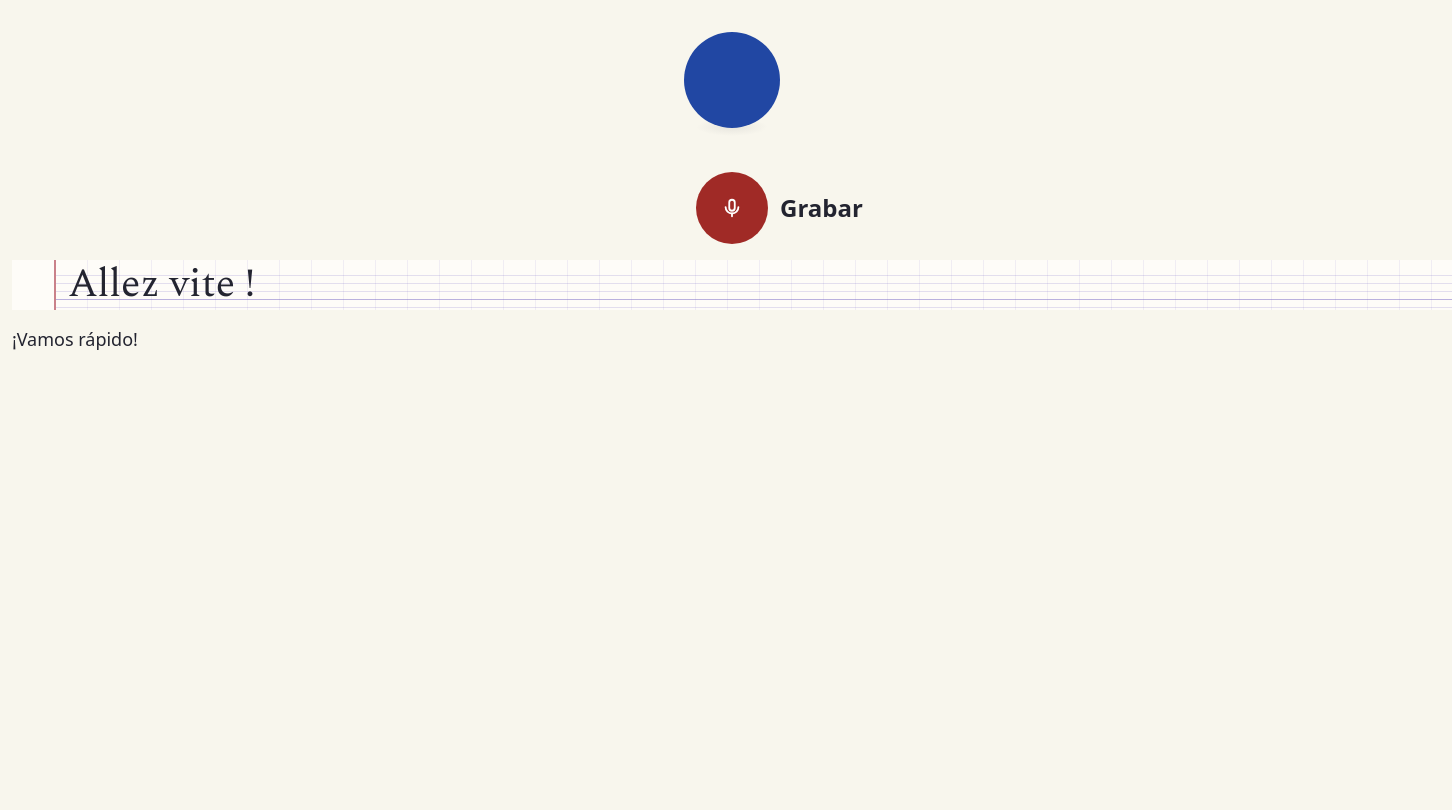
Test: score summary muestra anillo SVG y WordList reproduce palabra con voz francesa del navegador
This screenshot has width=1452, height=810.
Later steps or results of the test are not shown.
Click the button "Grabar" at (732, 208), box [696,172,768,244]
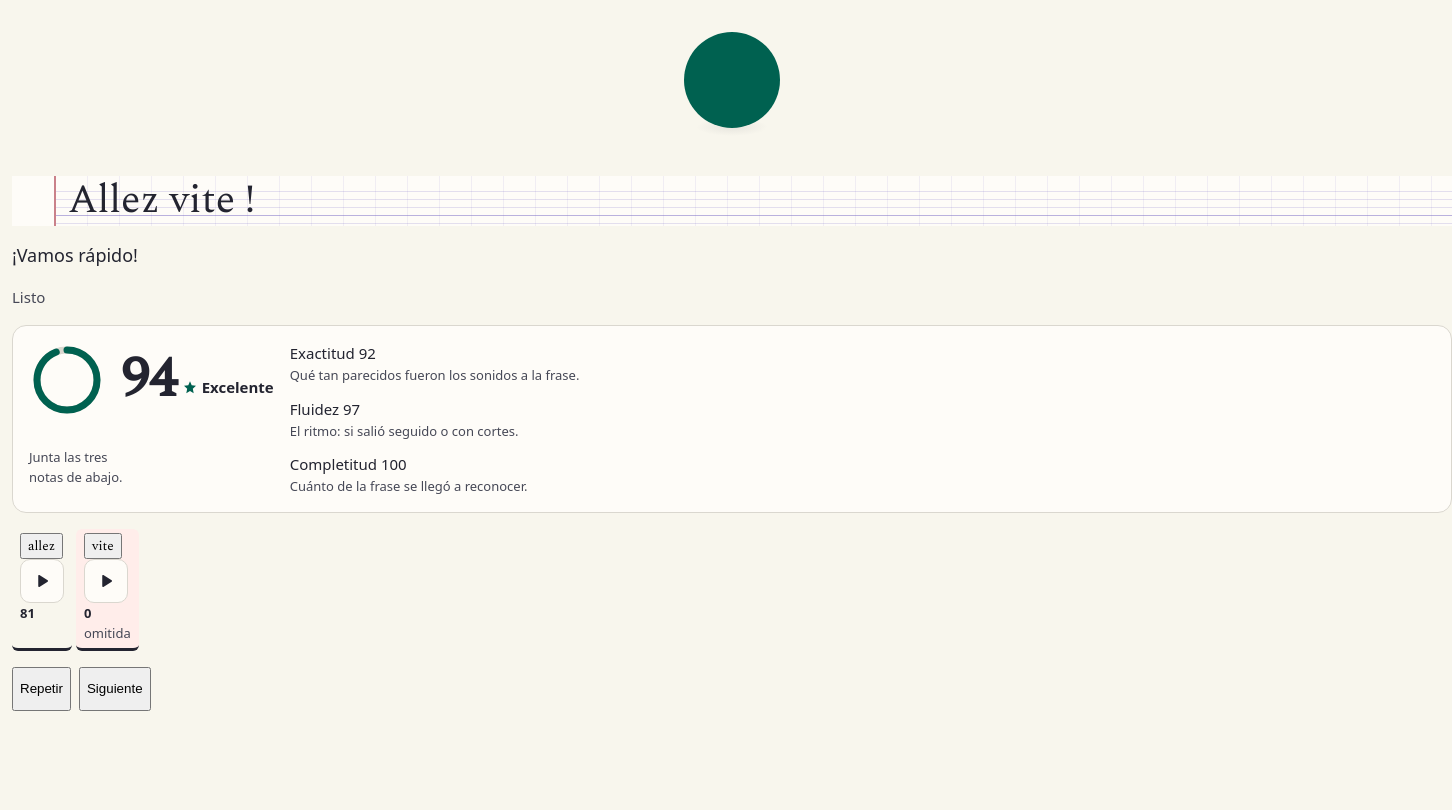
Now the 1st icon is shown, box [29,342,105,418]
